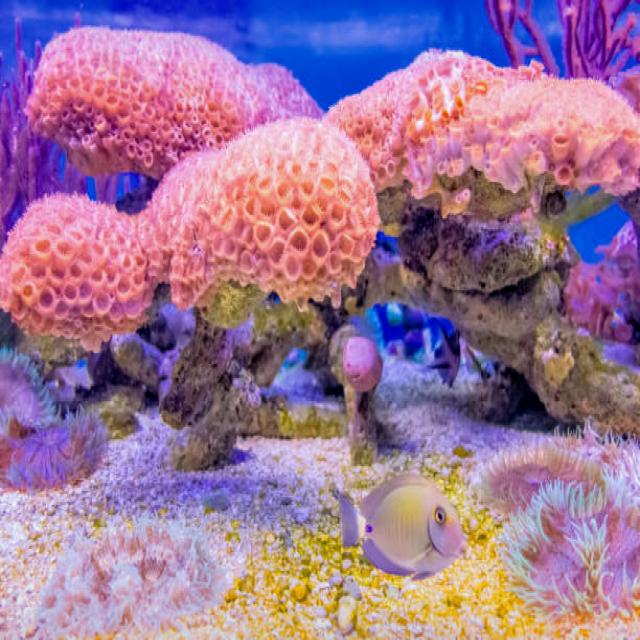Coral: (0, 114, 382, 353), (324, 47, 640, 199), (24, 24, 324, 180)
